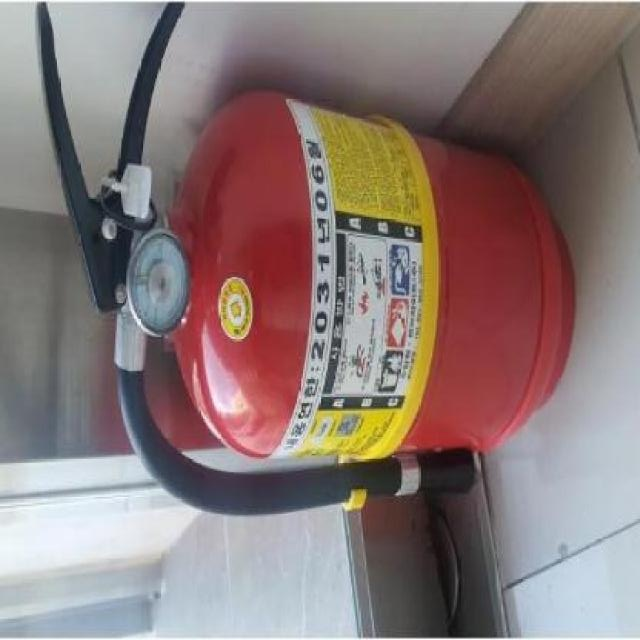fire extinguisher: (33, 0, 575, 519)
